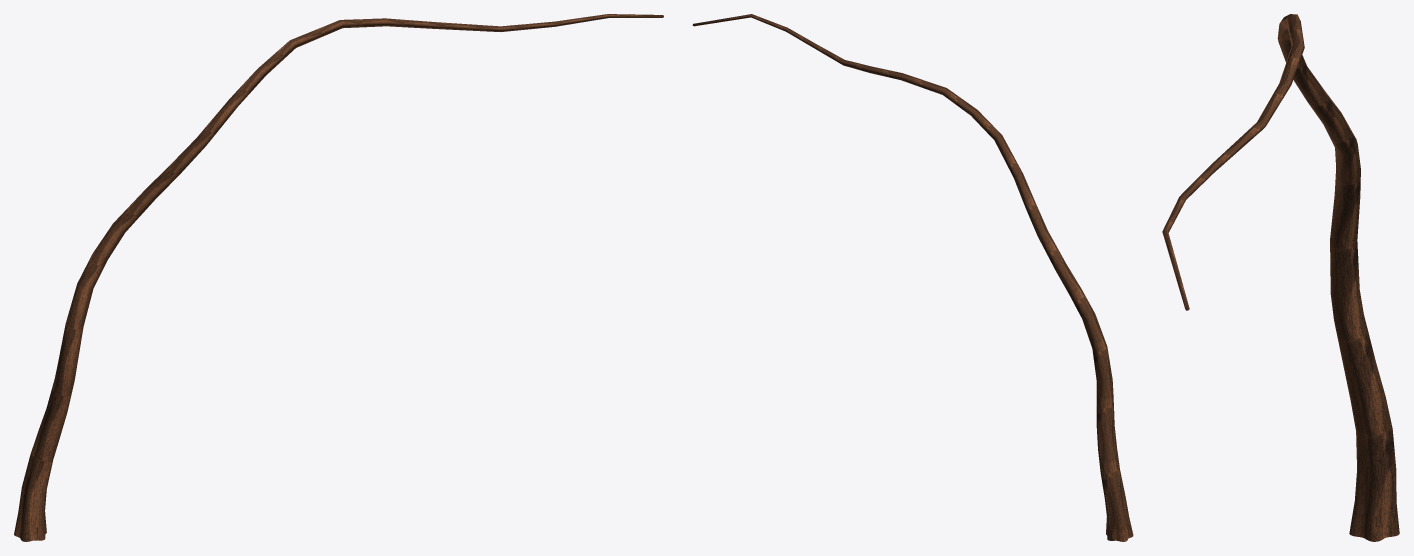
The picture shows the model from 3 angles, left to right: view 1: azimuth 30°, elevation 25°; view 2: azimuth 150°, elevation 25°; view 3: azimuth 270°, elevation 25°; orthographic projection. The views are drawn at different scales.
Parts seen in each view (by area): view 1: Tree_0; view 2: Tree_0; view 3: Tree_0.
Part boxes in pixels (x1=…): Tree_0: x1=14, y1=14, x2=663, y2=541; Tree_0: x1=692, y1=14, x2=1133, y2=541; Tree_0: x1=1162, y1=14, x2=1399, y2=541.
Bounding box in the file's own units: 529 × 402 × 124.
Materials: 1 (1 with a texture image).
